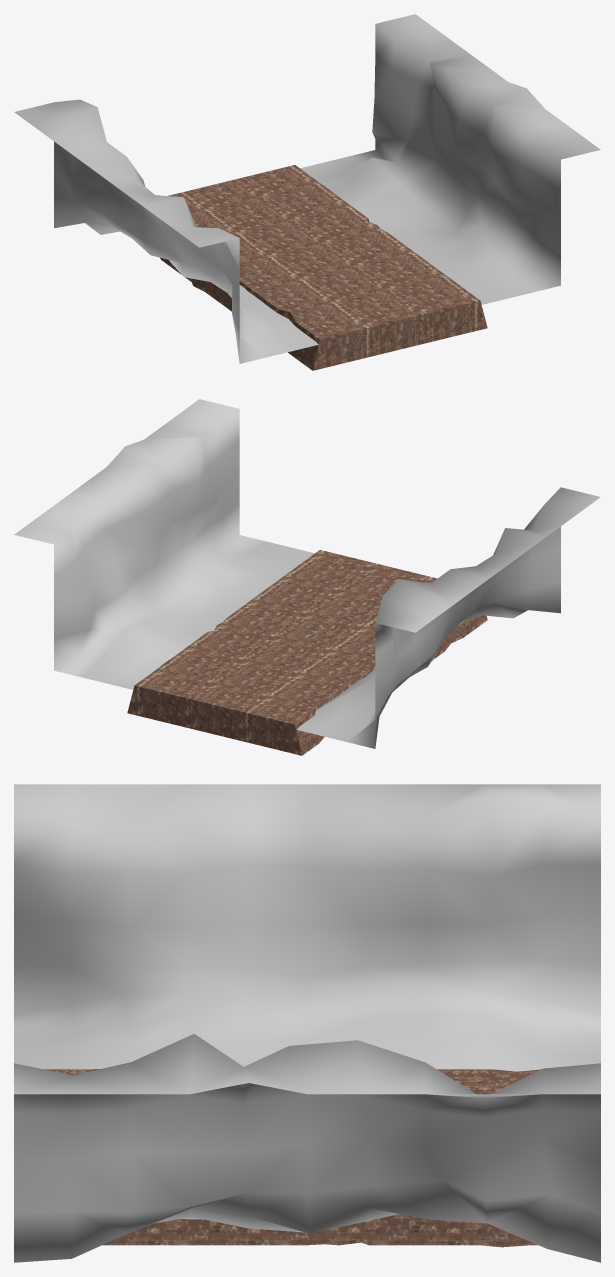
Rendered from tile_natural2.fbx.
The picture shows the model from 3 angles, top to bottom: view 1: azimuth 30°, elevation 25°; view 2: azimuth 150°, elevation 25°; view 3: azimuth 270°, elevation 25°; orthographic projection. The views are drawn at different scales.
Visible parts, largest first — view 1: tilenatural2; view 2: tilenatural2; view 3: tilenatural2.
Boxes of the visible parts, box(x1,y1,x2,y2) form: tilenatural2: box(14, 14, 600, 370); tilenatural2: box(14, 399, 600, 755); tilenatural2: box(14, 784, 600, 1262).
Size of the model in its own units: 5000 by 4000 by 1998.
